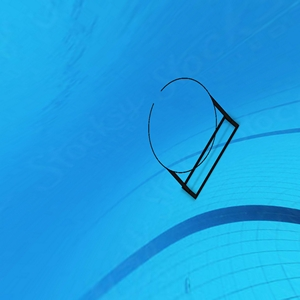circle: (142, 75, 241, 202)
